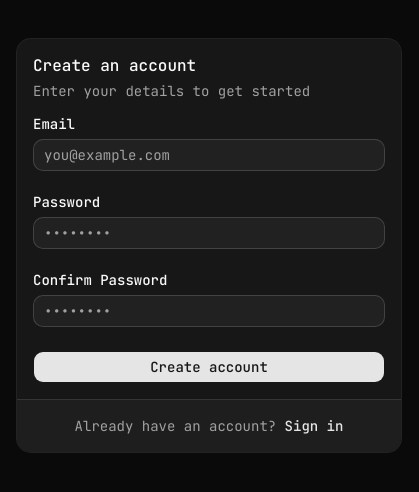
SignupPage › shows error when passwords do not match
This screenshot has width=419, height=492.
Step 1. Type "test@example.com" into the field labelled "Email" → (209,154), box [33,138,385,170]
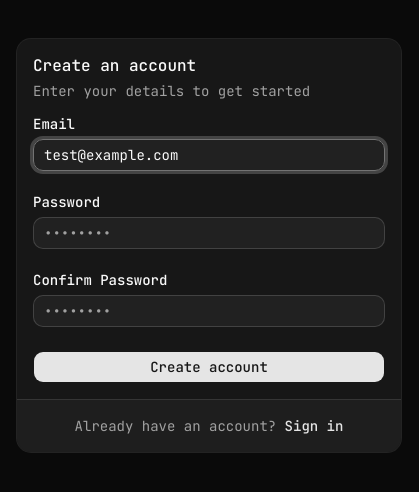
Step 2. Type "password123" into the password field labelled "Password" → (209,232), box [33,216,385,248]
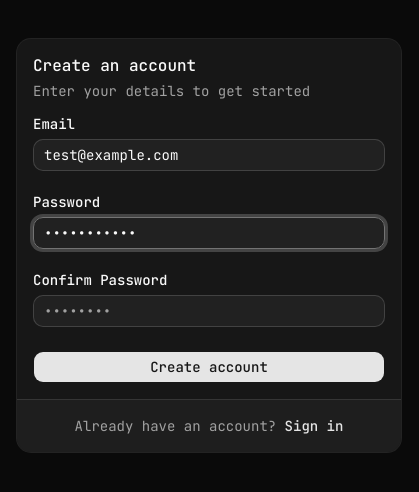
Step 3. Type "different" into the password field labelled "Confirm Password" → (209,310), box [33,294,385,326]
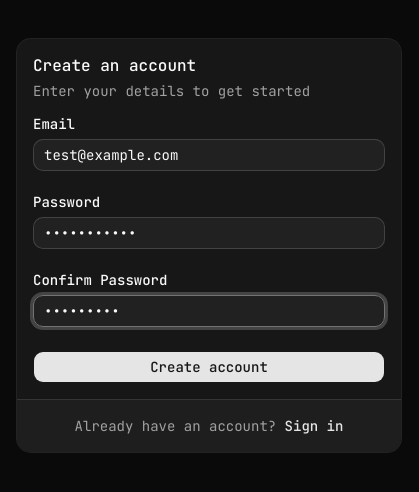
Step 4. Click the button "Create account" → (209,366), box [33,350,385,382]
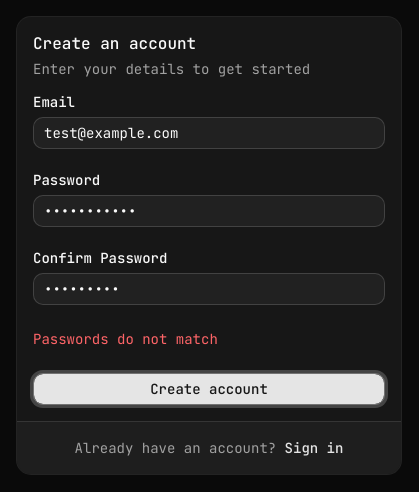
Now the text "Passwords do not match" is shown, box [33,330,218,348]
